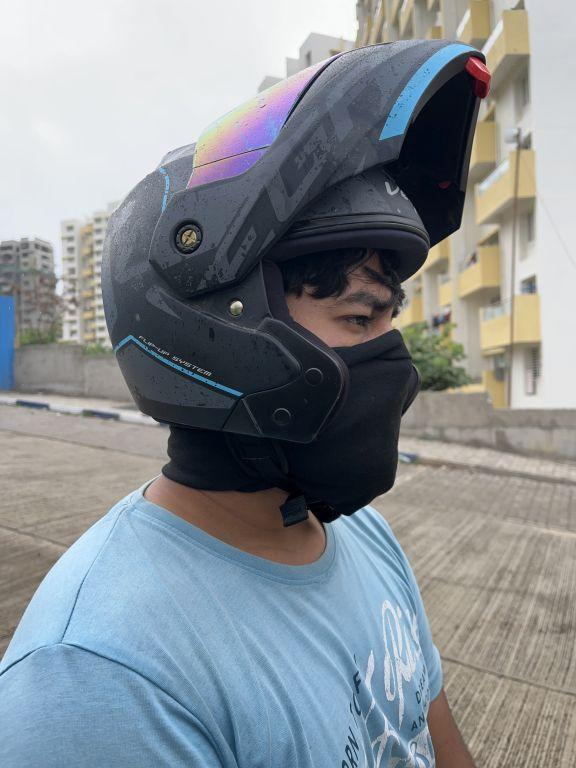helmet: (92, 27, 500, 541)
